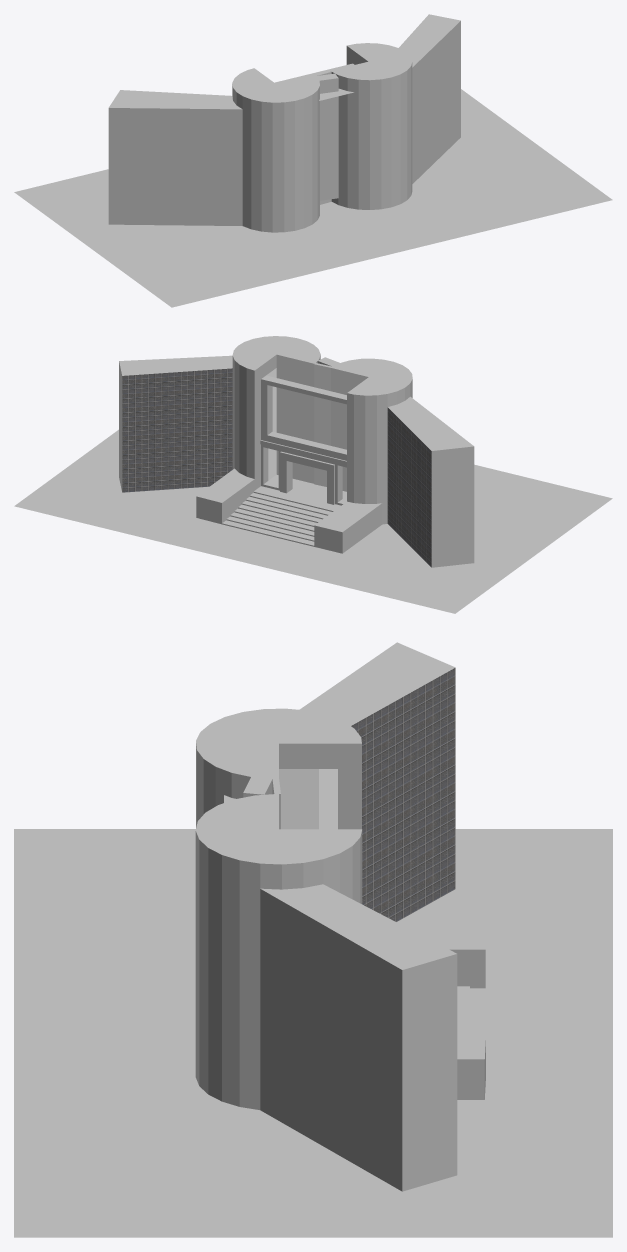
File: StoreFront.obj
3 views of the same model, one above another, from view 1: azimuth 30°, elevation 25°; view 2: azimuth 150°, elevation 25°; view 3: azimuth 270°, elevation 25° (orthographic). The views are drawn at different scales.
Parts seen in each view (by area): view 1: UModeler Object; view 2: UModeler Object; view 3: UModeler Object.
Boxes of the visible parts, bbox=[...] form: UModeler Object: bbox=[14, 14, 612, 307]; UModeler Object: bbox=[14, 336, 612, 613]; UModeler Object: bbox=[14, 642, 612, 1237].
Size of the model in its own units: 32.86 by 9.25 by 20.36.
